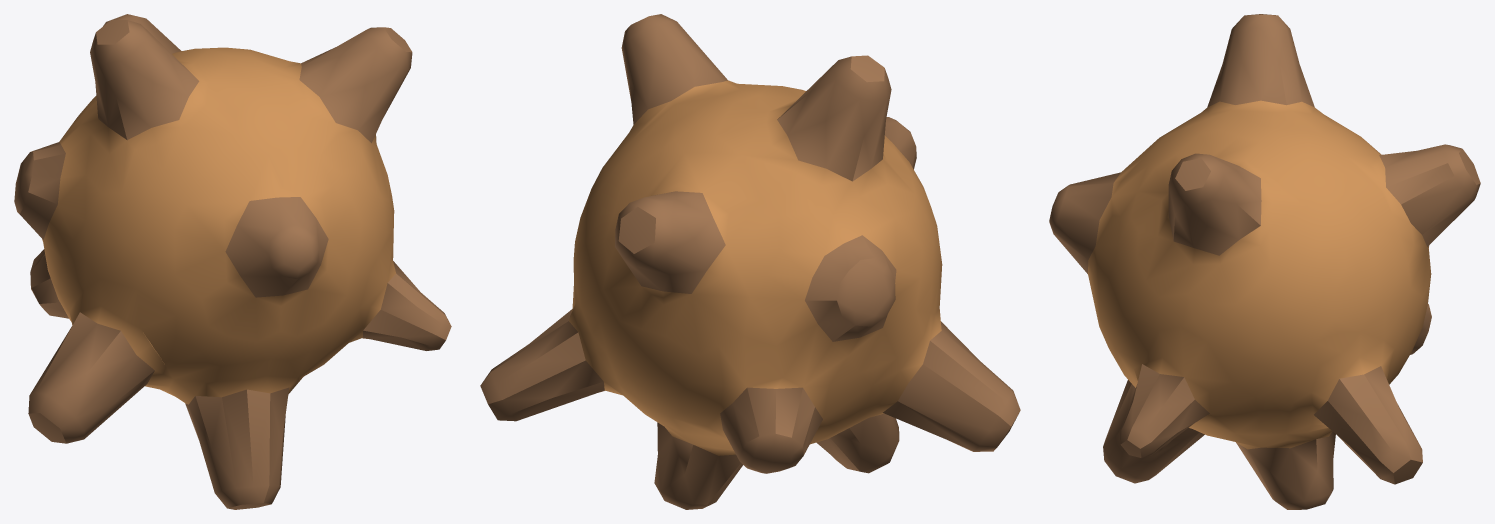
Rendered from planet_gas_giant.repacked.glb.
3 views of the same model, side by side, from view 1: azimuth 30°, elevation 25°; view 2: azimuth 150°, elevation 25°; view 3: azimuth 270°, elevation 25° (orthographic). The views are drawn at different scales.
Visible parts, largest first — view 1: Planet_5; view 2: Planet_5; view 3: Planet_5.
Part boxes in pixels (x1=…): Planet_5: x1=14, y1=14, x2=451, y2=509; Planet_5: x1=480, y1=14, x2=1020, y2=509; Planet_5: x1=1049, y1=14, x2=1480, y2=509.
Bounding box in the file's own units: 4.23 × 4.52 × 4.03.
1 material, 1 textured.
